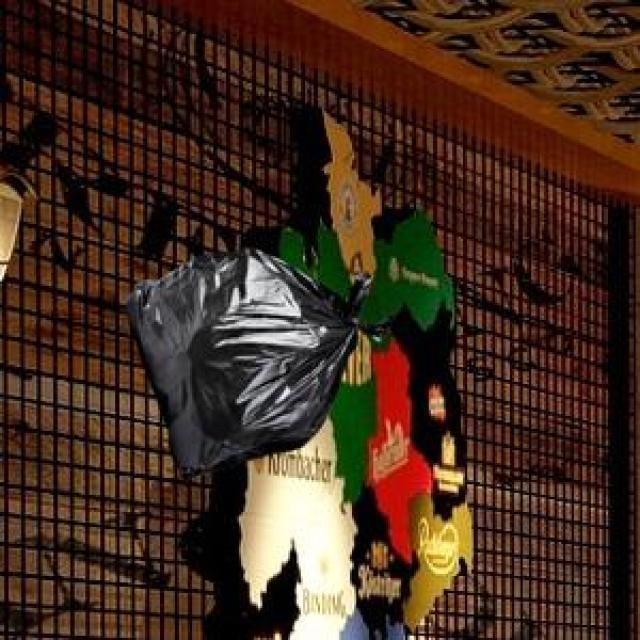waste: (129, 249, 368, 474)
